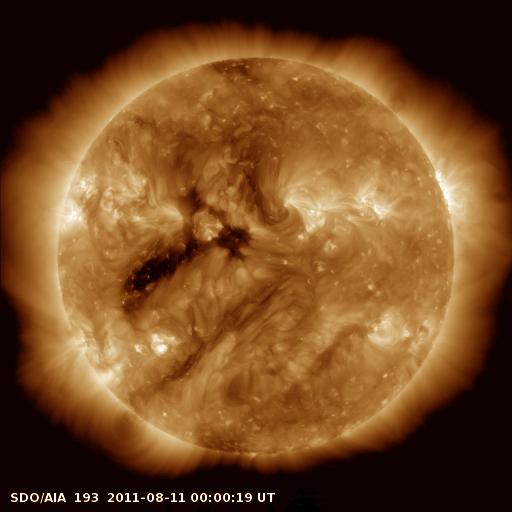coronal_hole: (120, 238, 208, 294), (224, 225, 257, 259)
